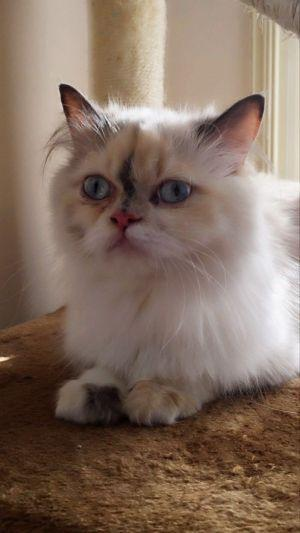persian: (41, 72, 272, 291)
